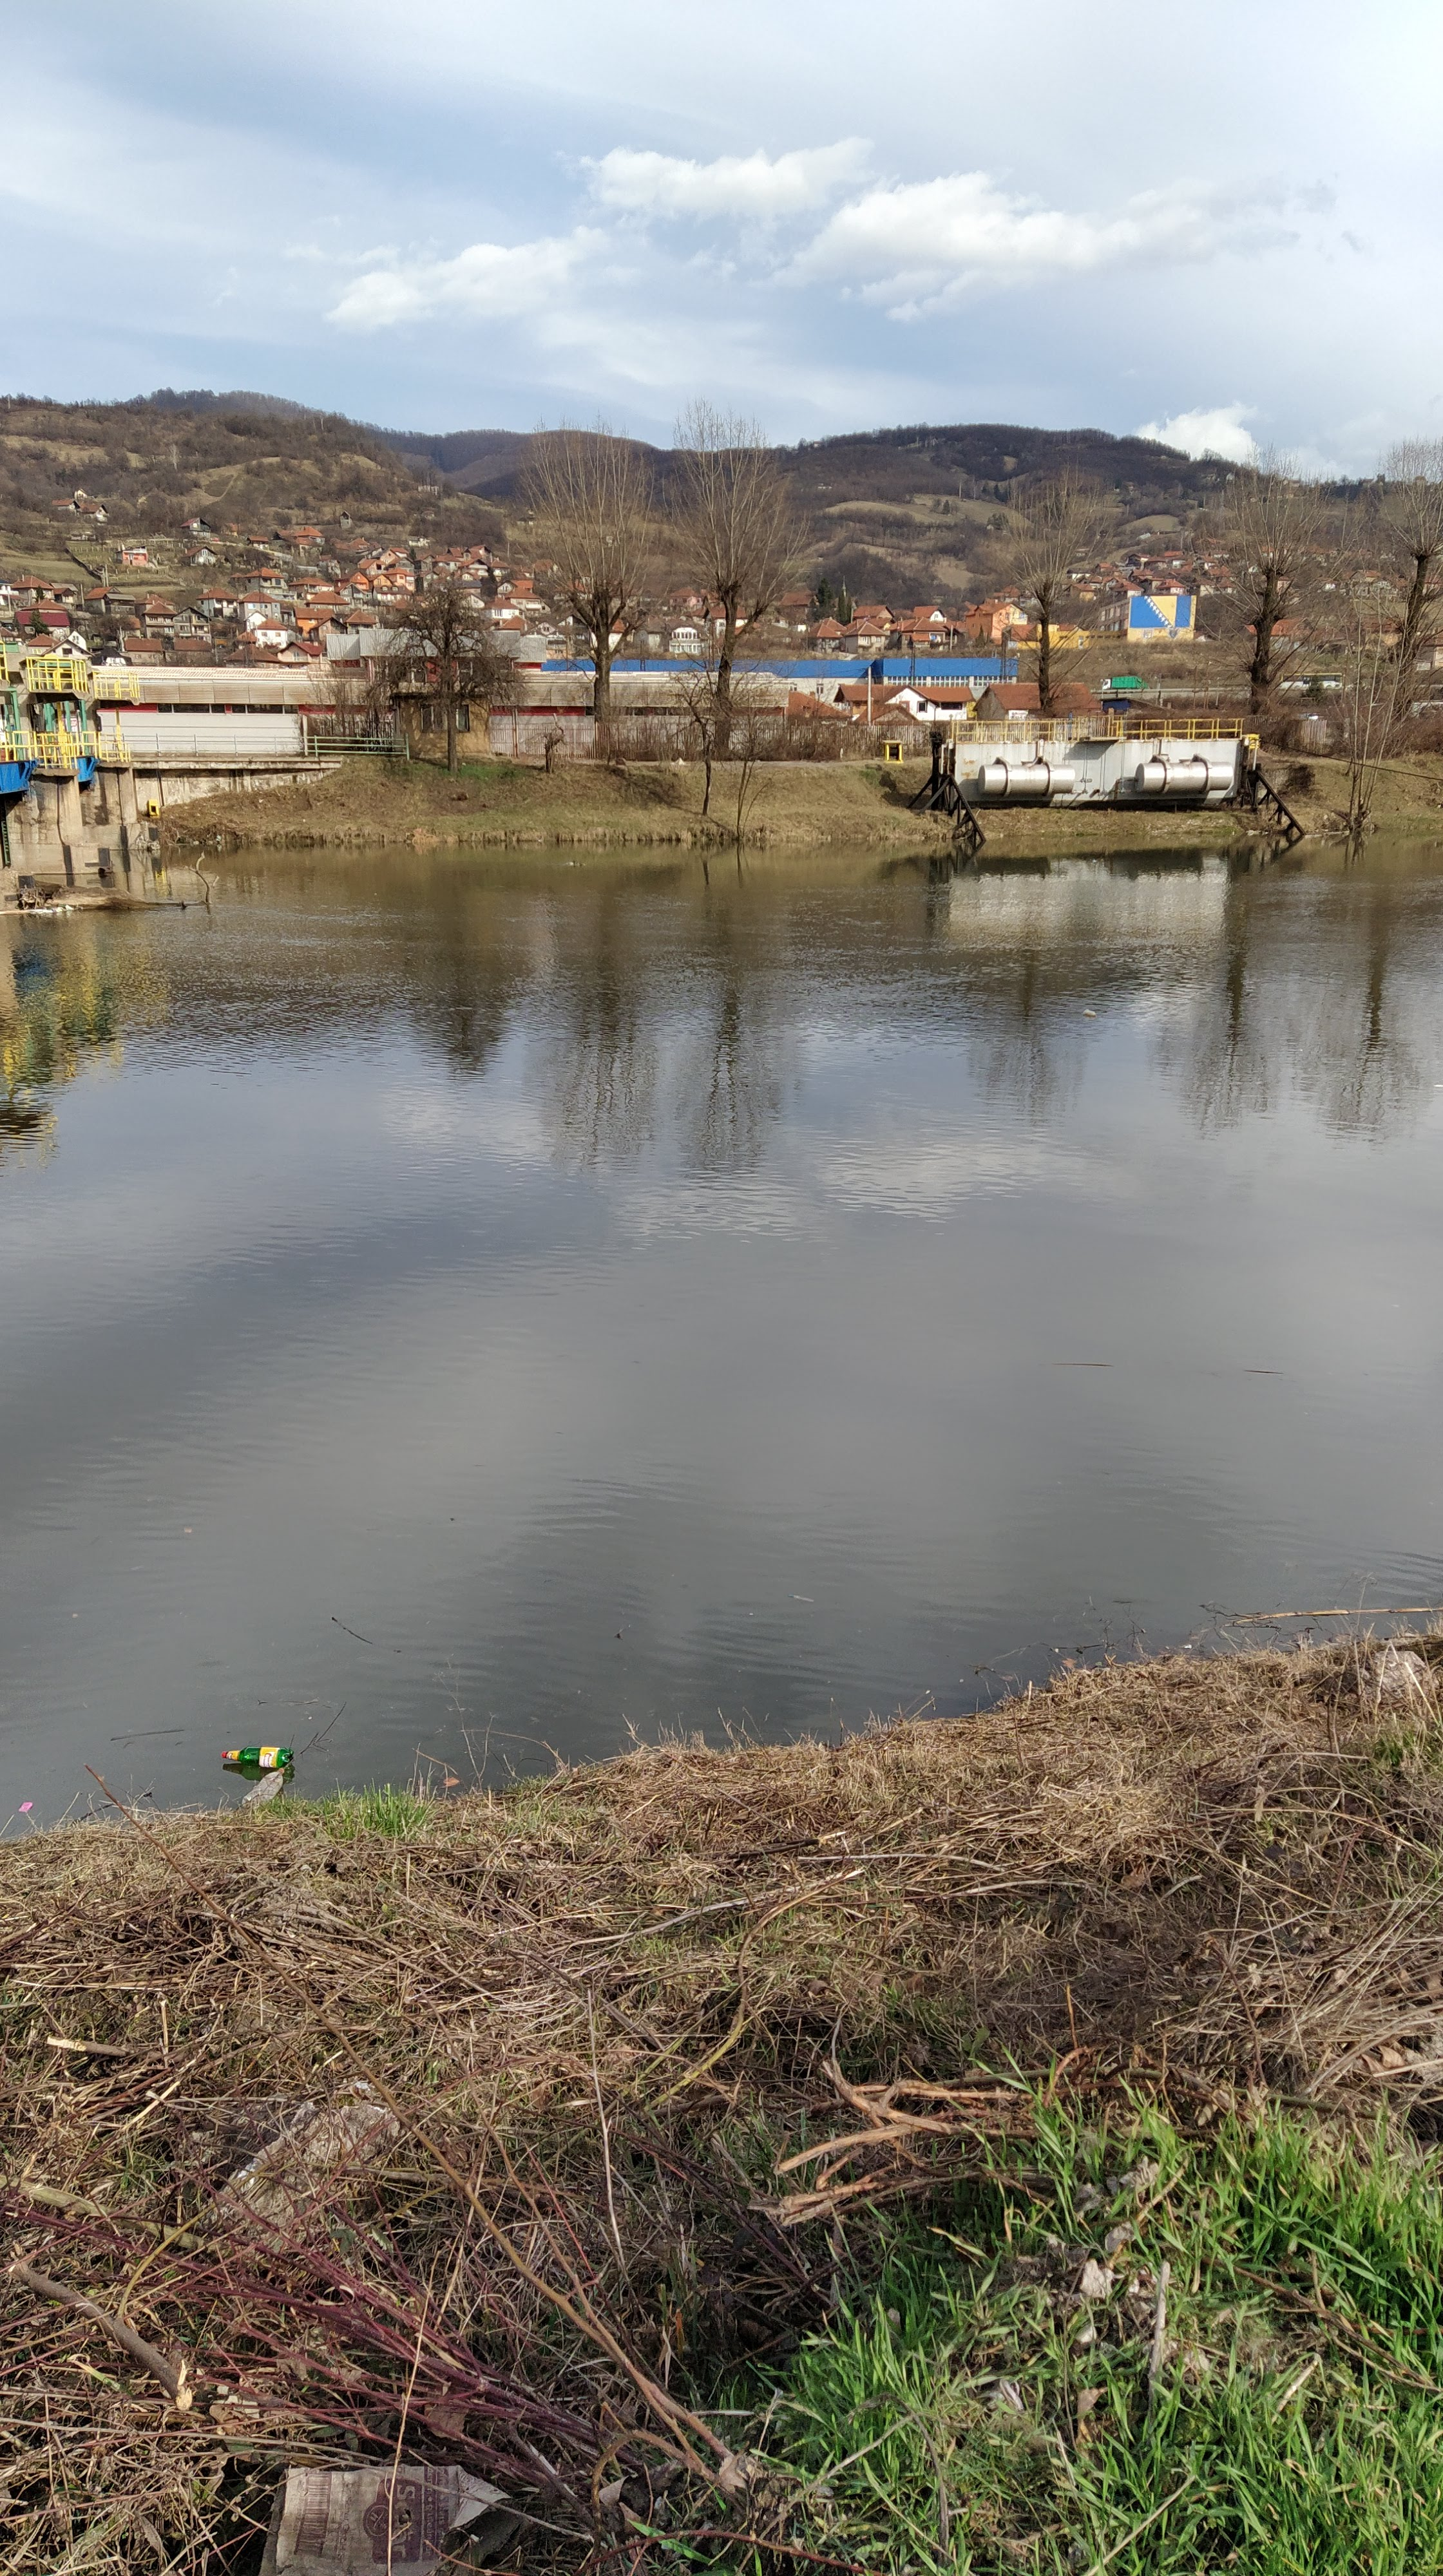Plastic Bottle: (241, 1767, 283, 1808), (221, 1746, 294, 1766), (1084, 1008, 1096, 1016)
